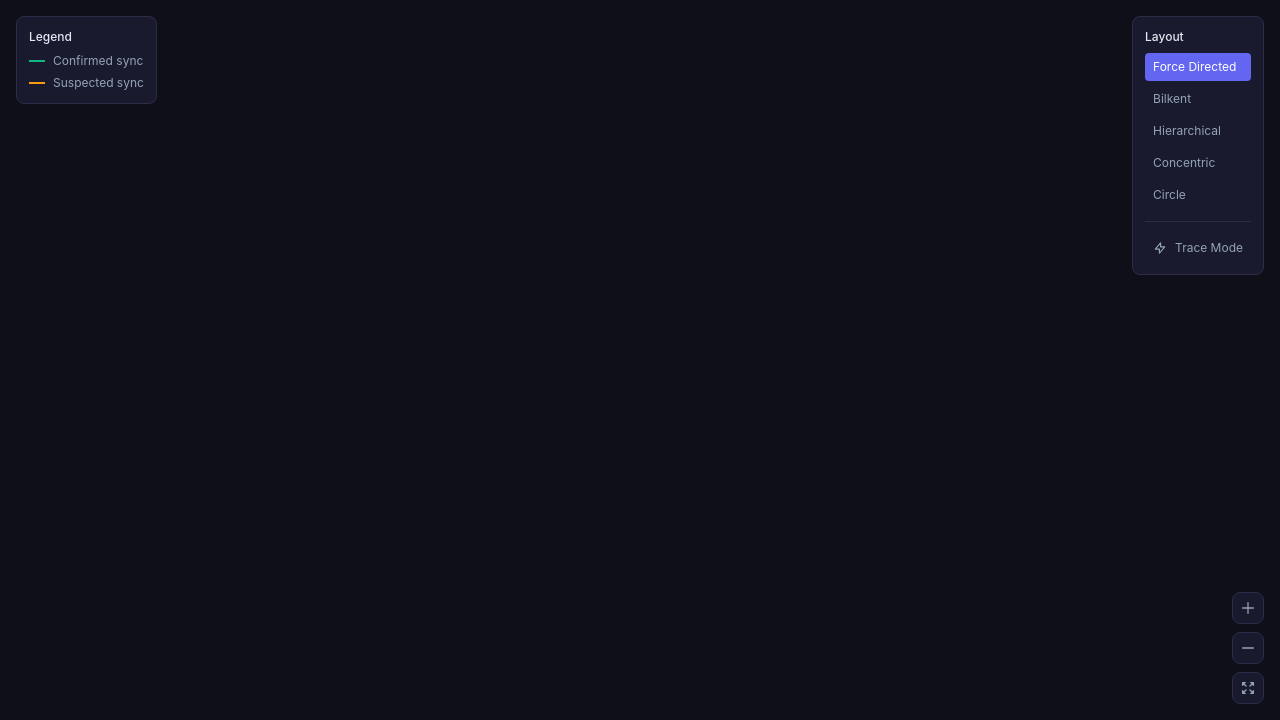
Test: WorkspaceMap › uses the same colors for trace roles on the map and in the legend
Click the button "Trace Mode" at (1198, 248), box x1=1145 y1=234 x2=1251 y2=262
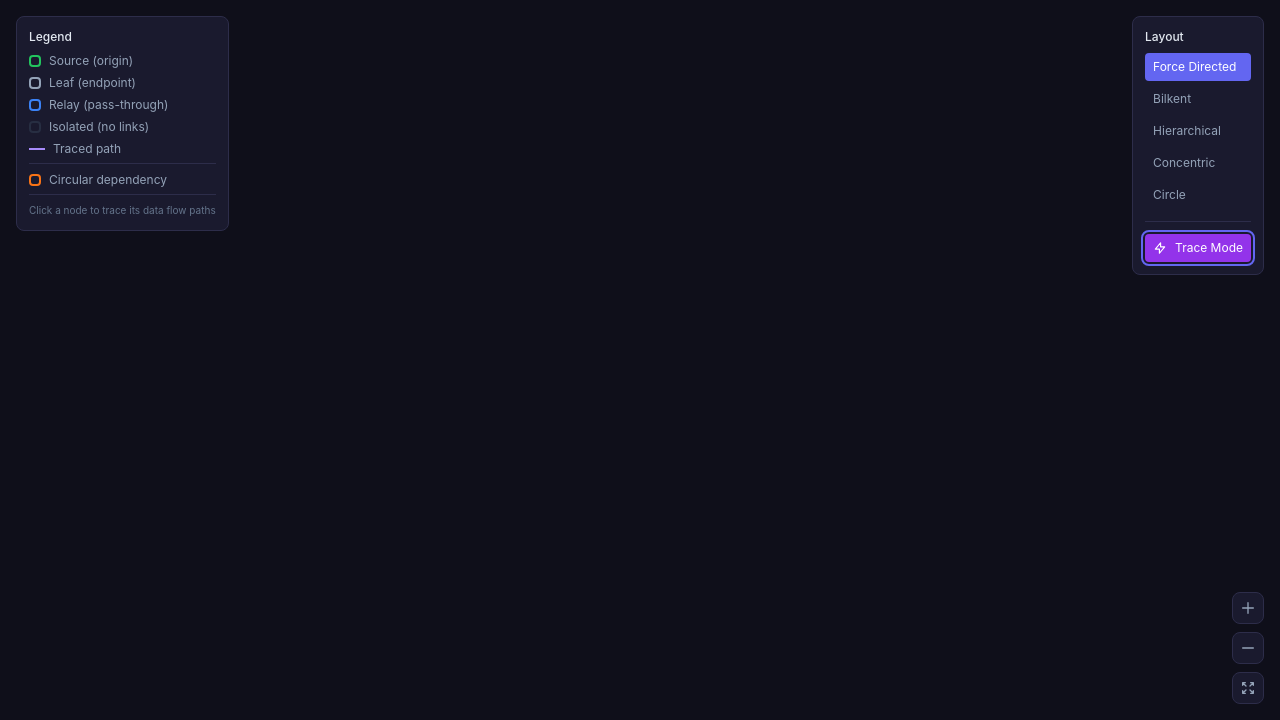
Result: the text "Circular dependency" is shown at x1=49 y1=172 x2=167 y2=188
Result: the text "Traced path" is shown at x1=53 y1=141 x2=121 y2=157
